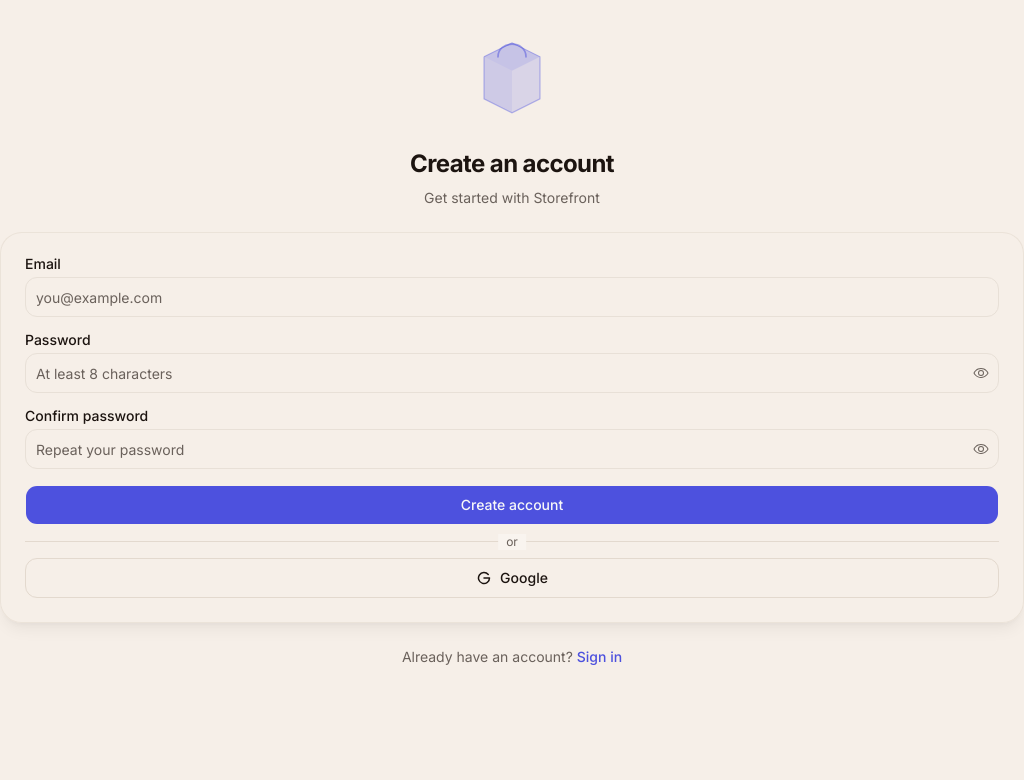
Test: auth flows › tells an existing user to sign in when they try to sign up again
The width and height of the screenshot is (1024, 780).
In the field labelled "Email": {"x": 512, "y": 297} [25, 277, 999, 317], type "owner@example.com"
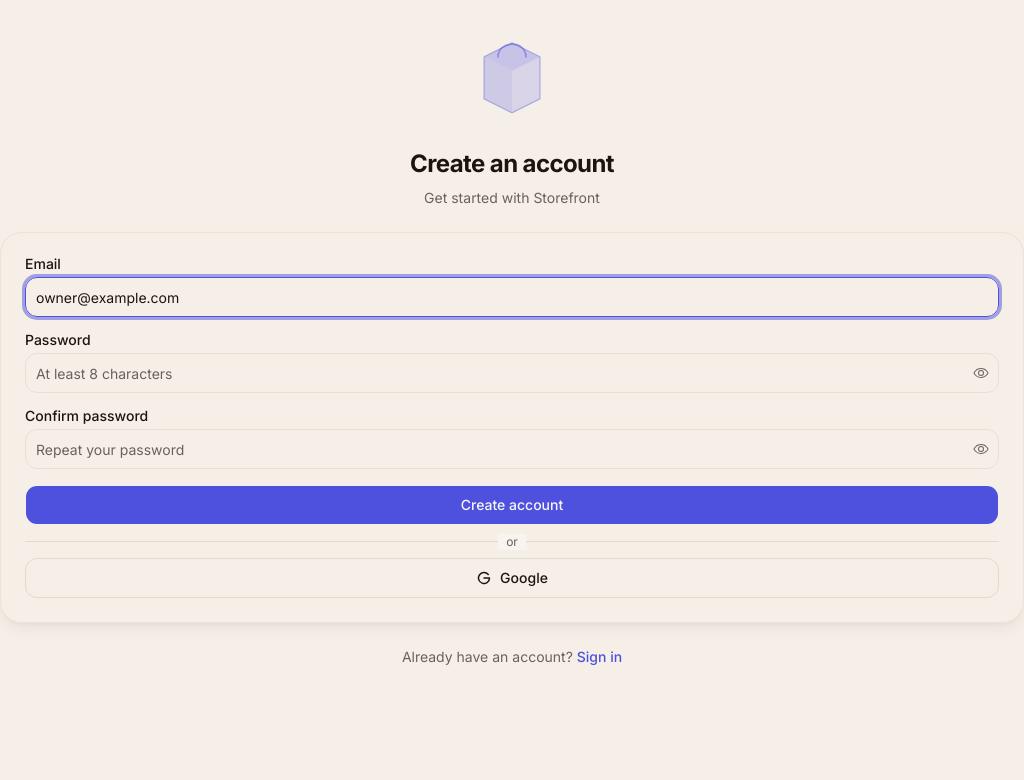
In the password field labelled "Password": {"x": 512, "y": 373} [25, 353, 999, 393], type "password123"
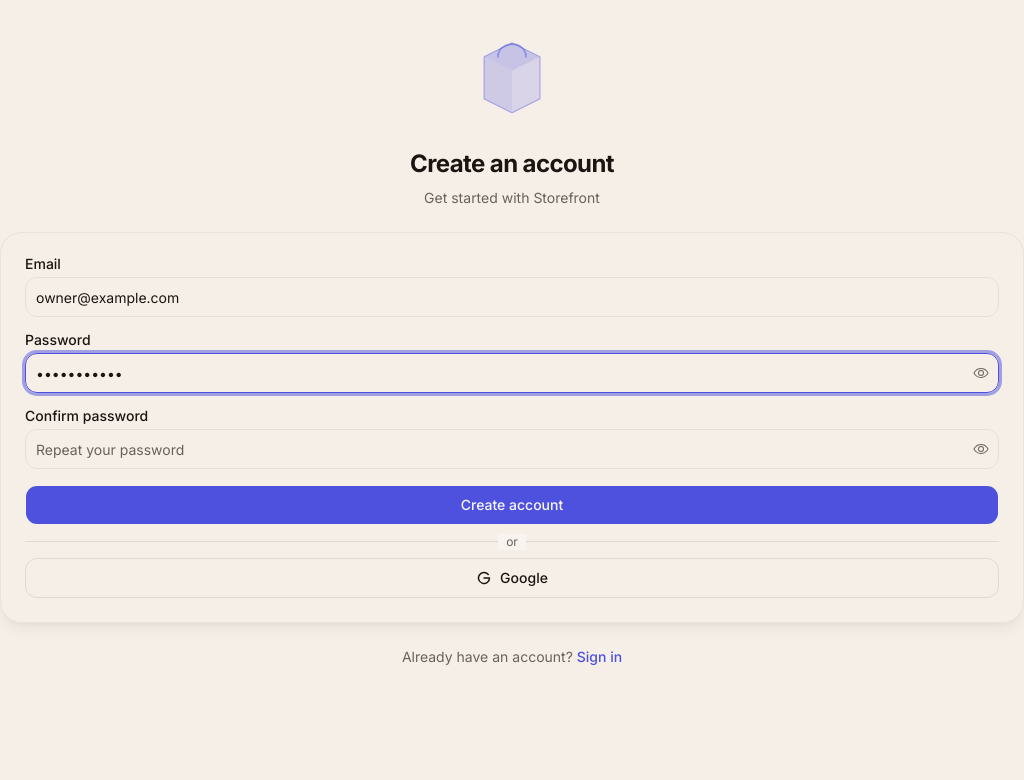
In the password field labelled "Confirm password": {"x": 512, "y": 449} [25, 429, 999, 469], type "password123"
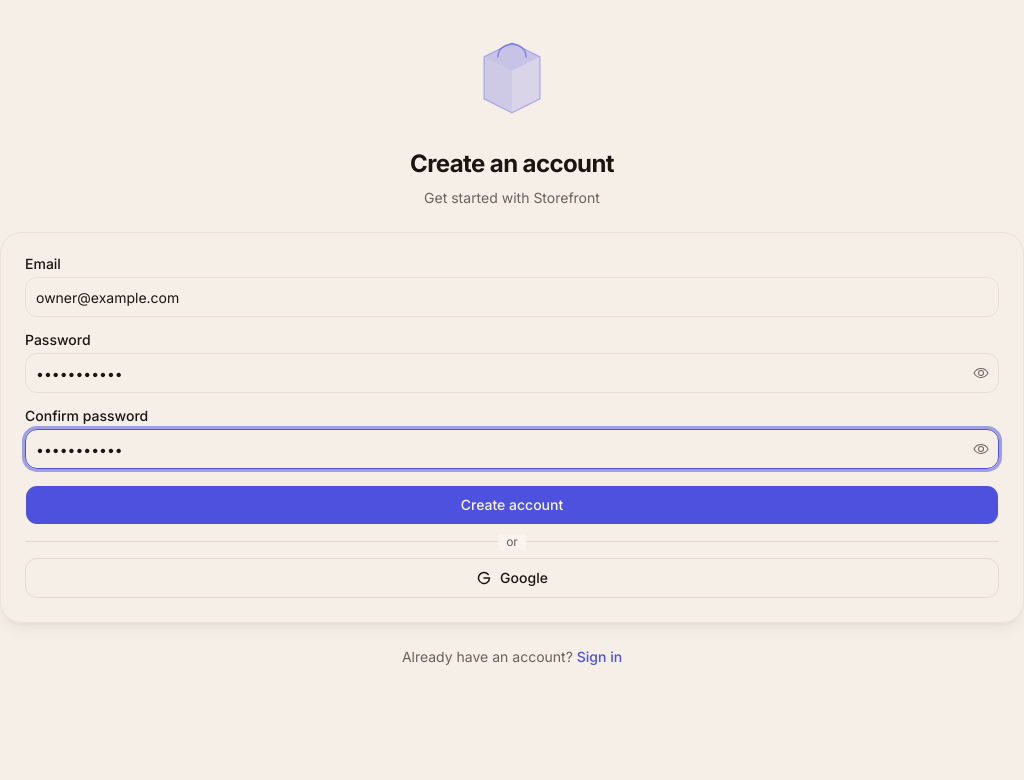
Click the button "Create account": {"x": 512, "y": 505} [25, 485, 999, 525]
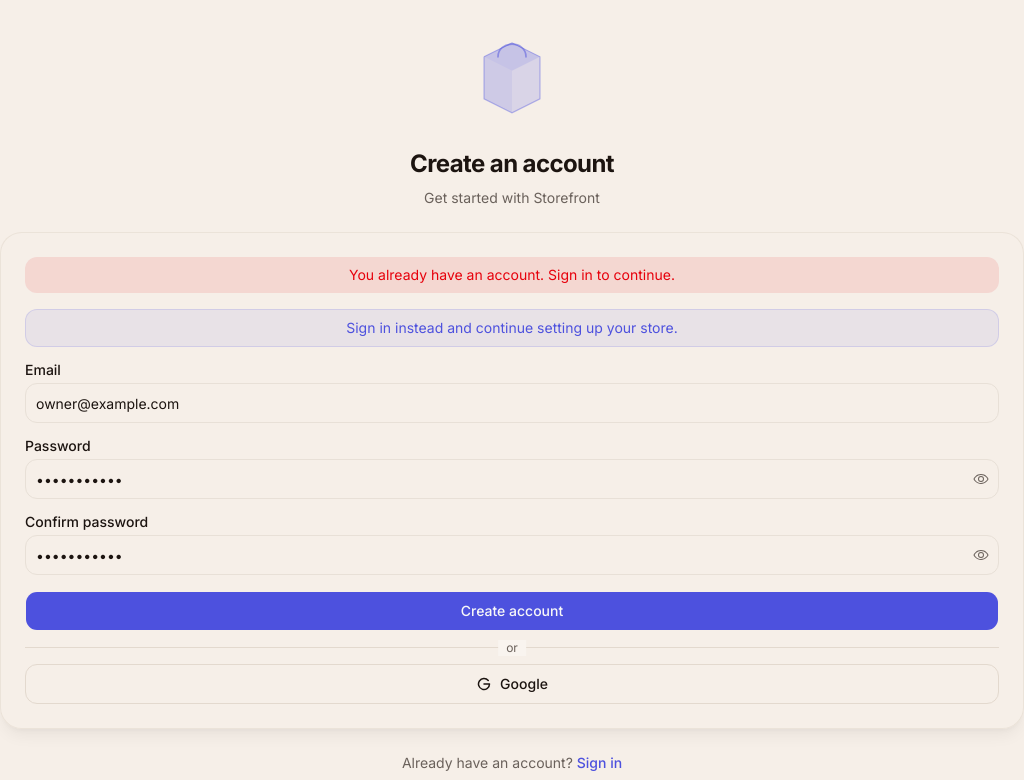
Check: the text "You already have an account. Sign in to continue." is shown, box [25, 257, 999, 293]
Check: the text "Sign in instead and continue setting up your store." is shown, box [25, 309, 999, 347]
